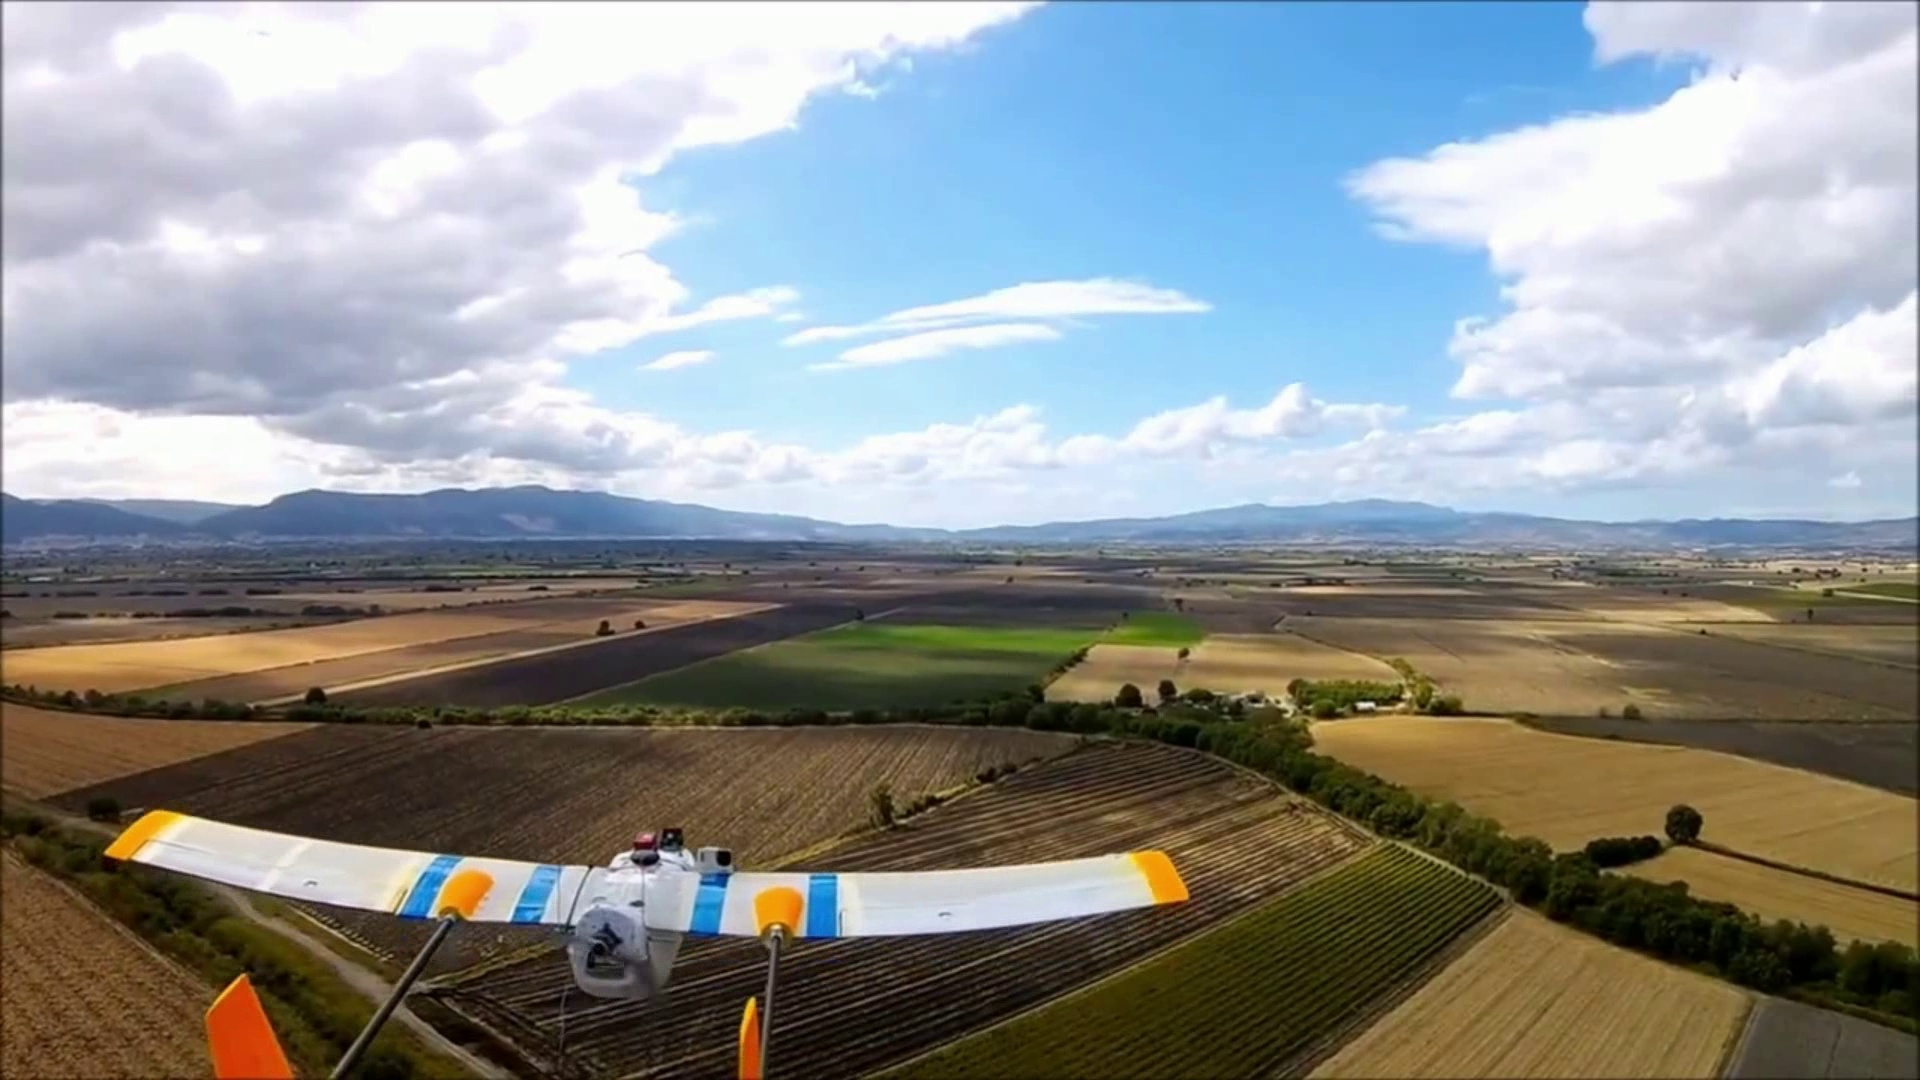airplane: (102, 804, 1196, 1004)
